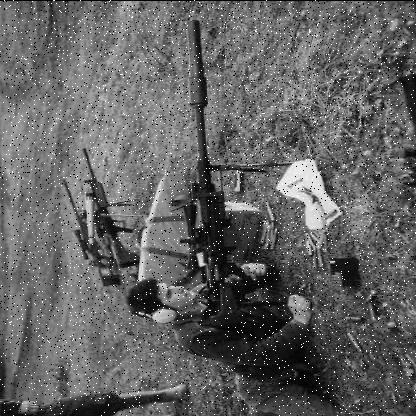rifle: (155, 11, 301, 329)
